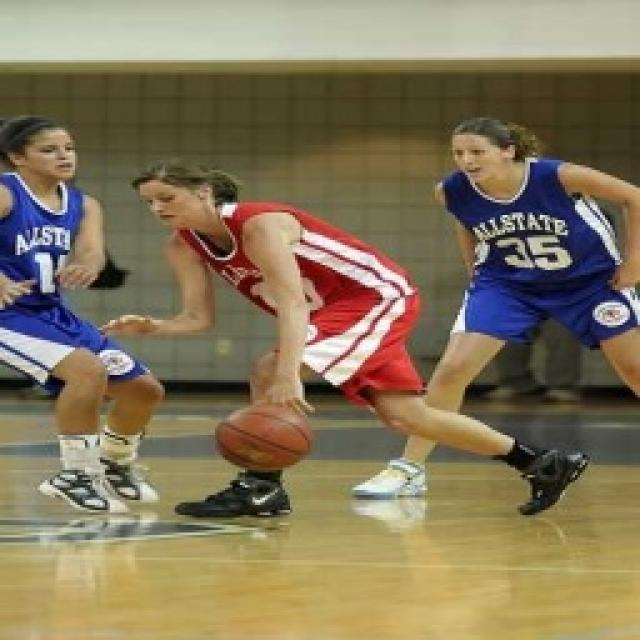basketball: (209, 402, 322, 474)
